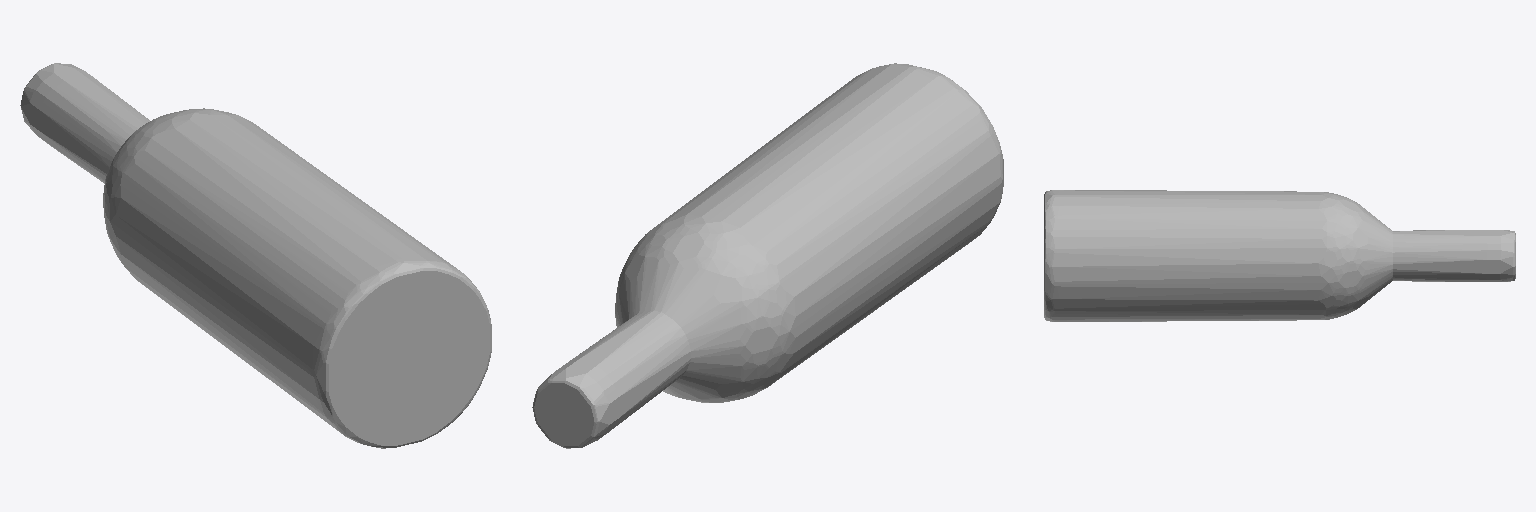
The robot description file, URDF, robot "root":
<?xml version="1.0"?>
<robot name="root">
  <link name="base_link">
    <visual>
      <origin xyz="0 0 0" rpy="0 0 0" />
      <geometry>
        <mesh filename="../meshes/unidex_core_bottle-950d6ca1d2b53ce52f71dfd07ef088cf_012.obj" scale="1.0000E+00 1.0000E+00 1.0000E+00" />
      </geometry>
      <material name="">
        <color rgba="7.50E-01 7.50E-01 7.50E-01 1" />
      </material>
    </visual>
    <collision>
      <origin xyz="0 0 0" rpy="0 0 0" />
      <geometry>
        <mesh filename="../meshes/unidex_core_bottle-950d6ca1d2b53ce52f71dfd07ef088cf_012.obj" scale="1.0000E+00 1.0000E+00 1.0000E+00" />
      </geometry>
    </collision>
  </link>
</robot>

--- Facts derived from the render (not from the file) ---
Views: 3 orthographic renders of the robot side by side, from view 1: azimuth 30°, elevation 25°; view 2: azimuth 150°, elevation 25°; view 3: azimuth 270°, elevation 25°.
Model root with 1 links and 0 joints (none), rooted at base_link, posed every joint at zero.
Links seen in each view (by area): view 1: base_link; view 2: base_link; view 3: base_link.
Boxes of the visible links, bbox=[...] form: base_link: bbox=[20, 63, 491, 448]; base_link: bbox=[532, 63, 1003, 448]; base_link: bbox=[1044, 190, 1515, 321].
Bounding box of the posed robot: 0.0642 × 0.2273 × 0.0642 m (x, y, z).
Meshes: 1 distinct files referenced, 1 mesh visuals loaded (1 OBJ).
